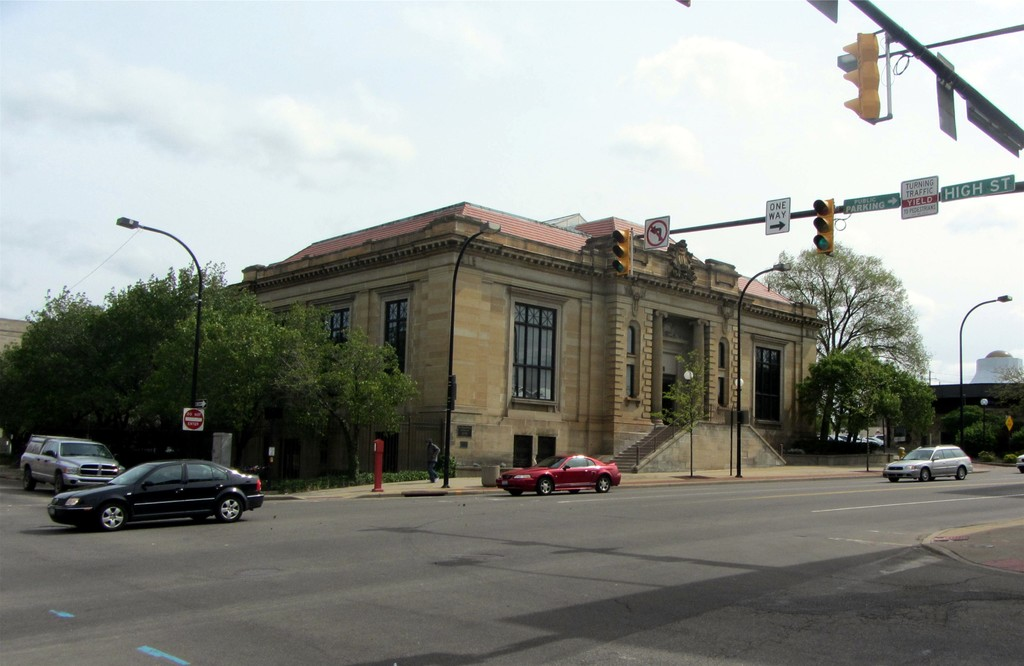green_light: (815, 200, 834, 252)
